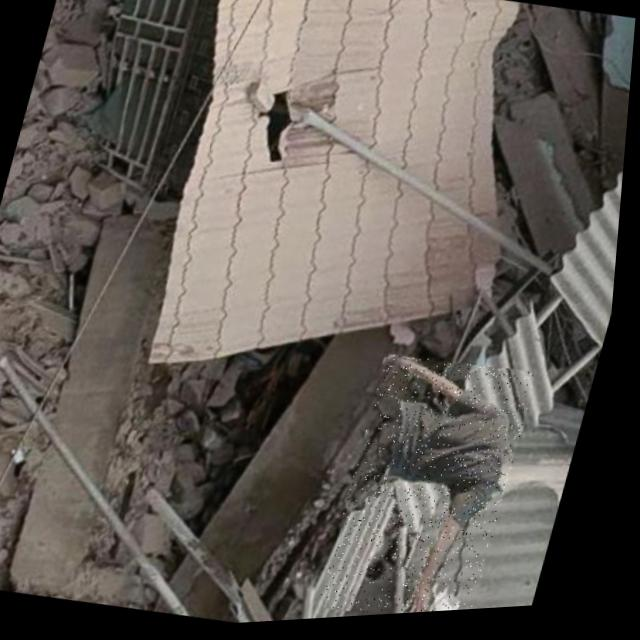Person in Rubble: (327, 350, 545, 623)
